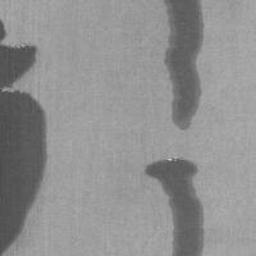Water spot: (0, 18, 47, 256), (146, 156, 204, 256), (164, 0, 204, 129)
